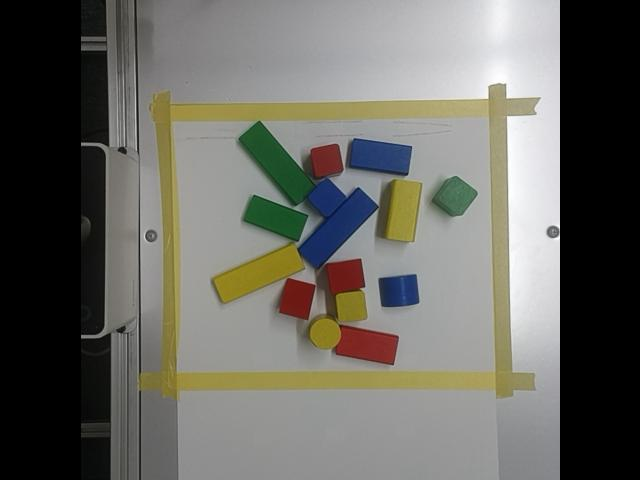blue_cube: (306, 179, 345, 217)
blue_longrect: (298, 189, 377, 268)
blue_rect: (348, 139, 411, 176)
cylinder: (309, 317, 340, 349)
green_cube: (432, 177, 477, 217)
green_longrect: (239, 122, 314, 205)
green_rect: (243, 196, 307, 242)
half_cylinder: (378, 275, 418, 307)
red_cube: (309, 144, 343, 178)
red_rect: (334, 326, 398, 365)
triangle: (279, 279, 315, 320), (325, 259, 364, 294)
yellow_cube: (334, 291, 366, 322)
yellow_longrect: (212, 244, 303, 303)
yelow_rect: (384, 180, 421, 242)
